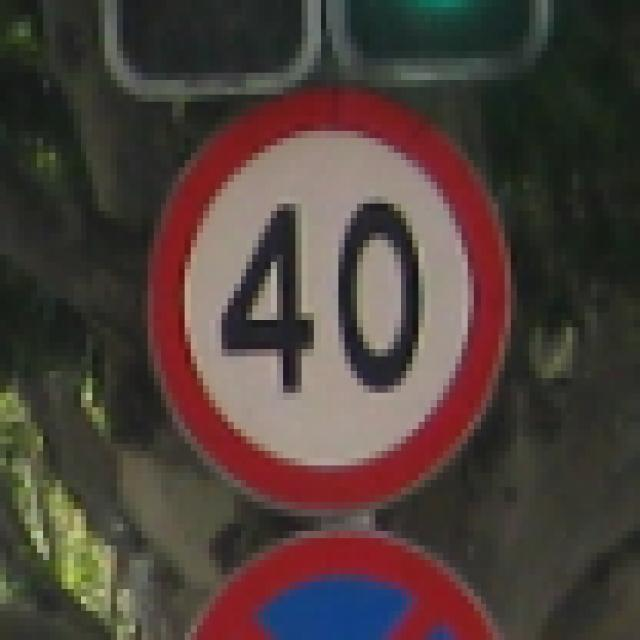Speed: (144, 93, 516, 523)
